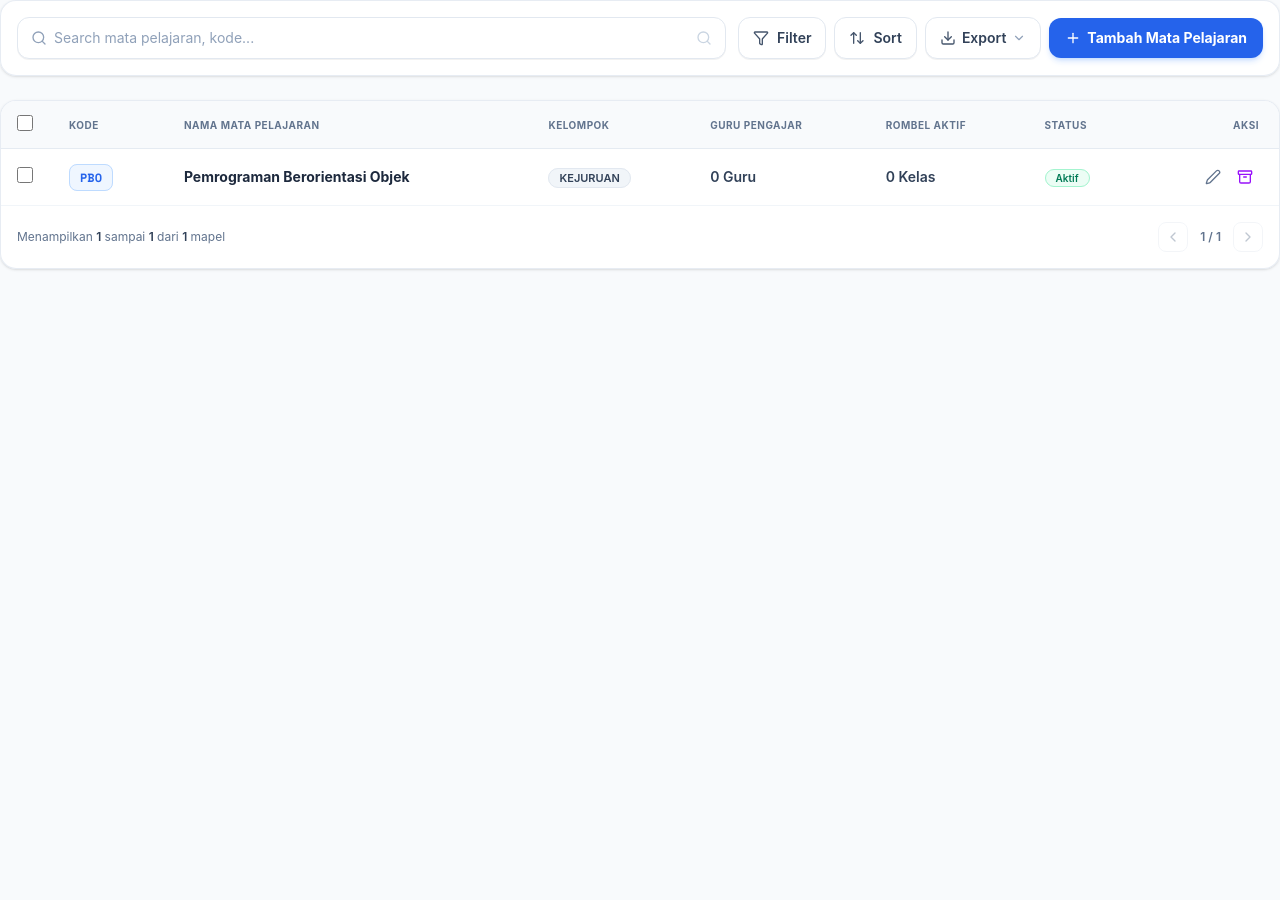
Scenario: Human Review Correction: Multi-Selection & Lifecycle Protection (Item 15 Test Suite) › 3. Mata Pelajaran Dependency & Lifecycle Tests › verifies dependency check and redirects to archive if subject has history
Click the button titled "Arsipkan Mapel (Memiliki Histori Akademik)". click: (1245, 177)
box: [1231, 163, 1259, 191]
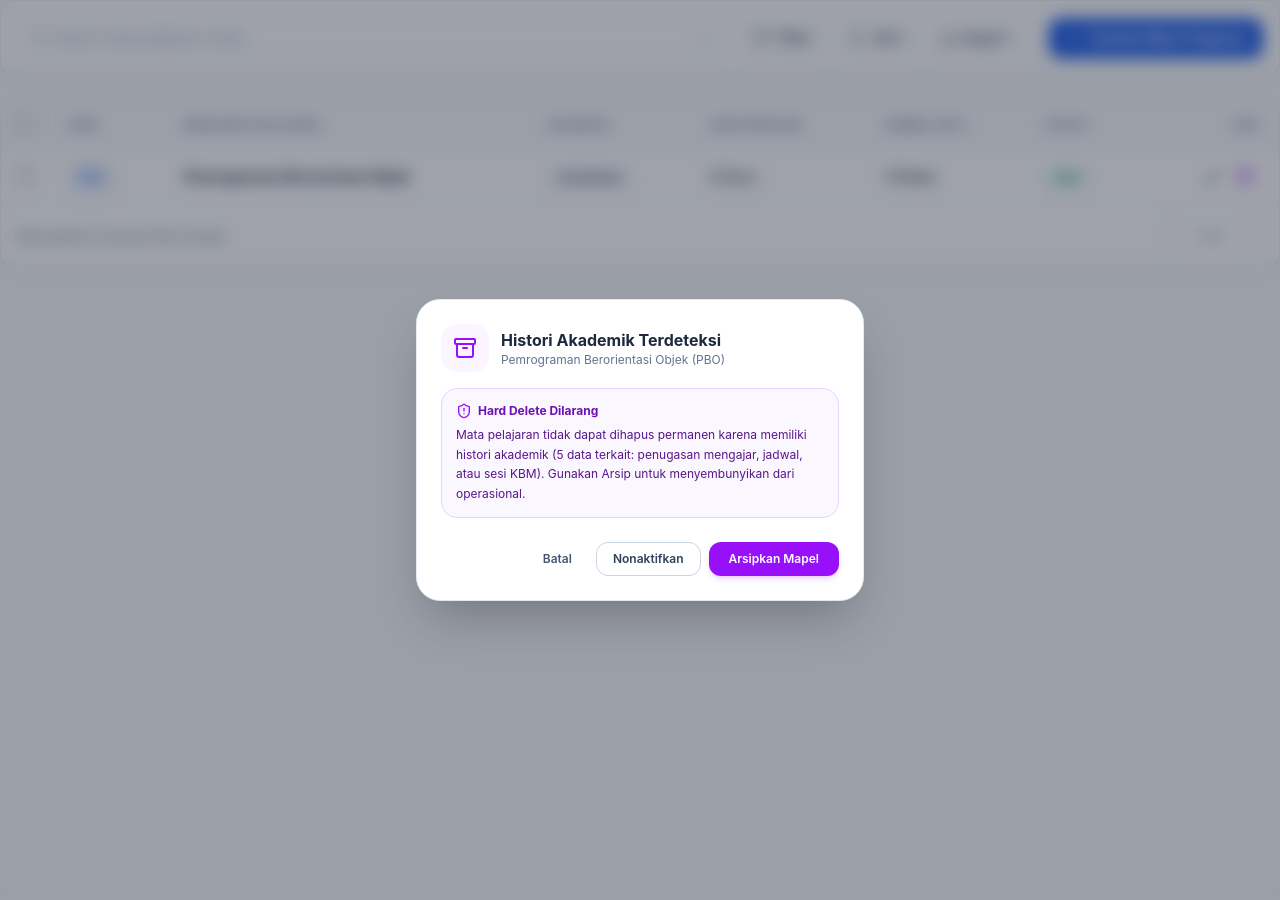
Expected: the heading "Histori Akademik Terdeteksi" is shown, [501, 328, 725, 352]
Expected: the text "Hard Delete Dilarang" is shown, [478, 403, 598, 419]
Expected: the text "Mata pelajaran tidak dapat dihapus permanen karena memiliki histori akademik" is shown, [456, 427, 807, 462]
